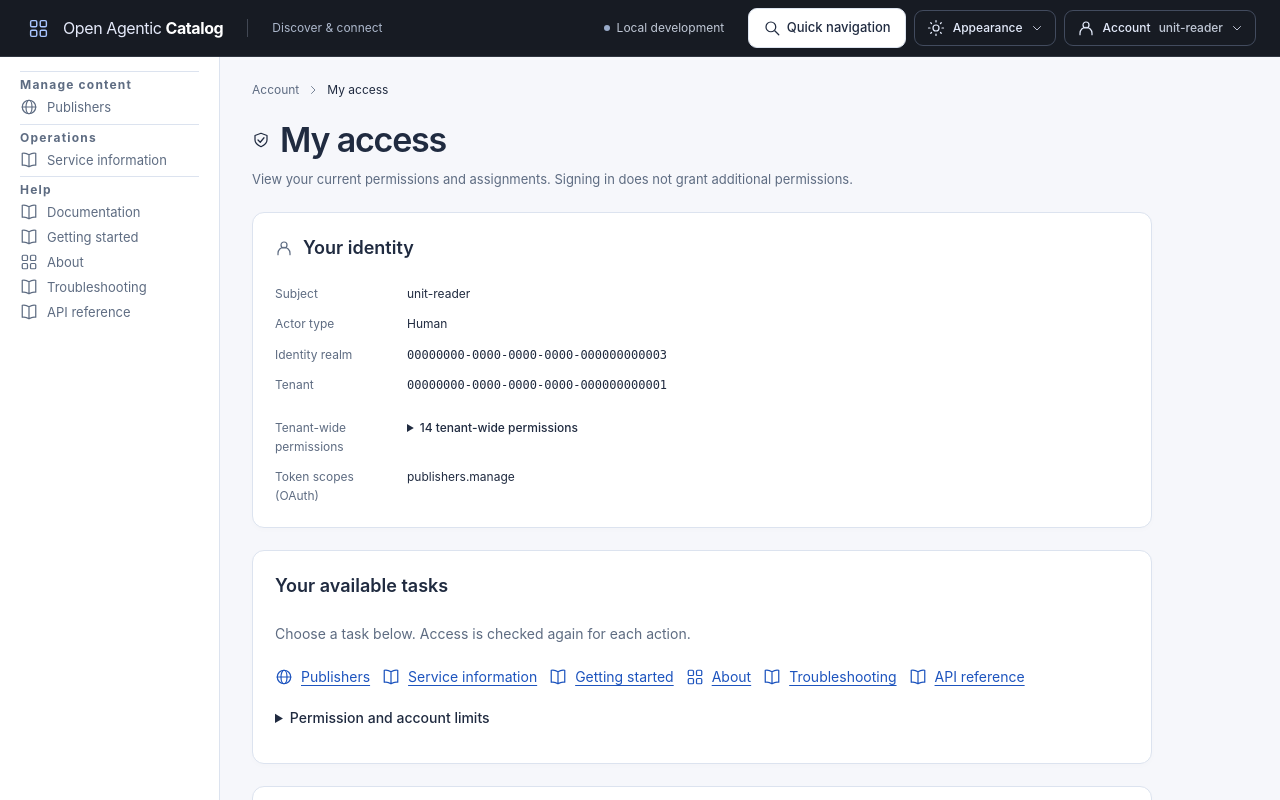
shell controls › keeps Publishers in Manage content without adding authority requirements
Click the heading titled "Account": {"x": 1160, "y": 28} [1064,10,1256,46]
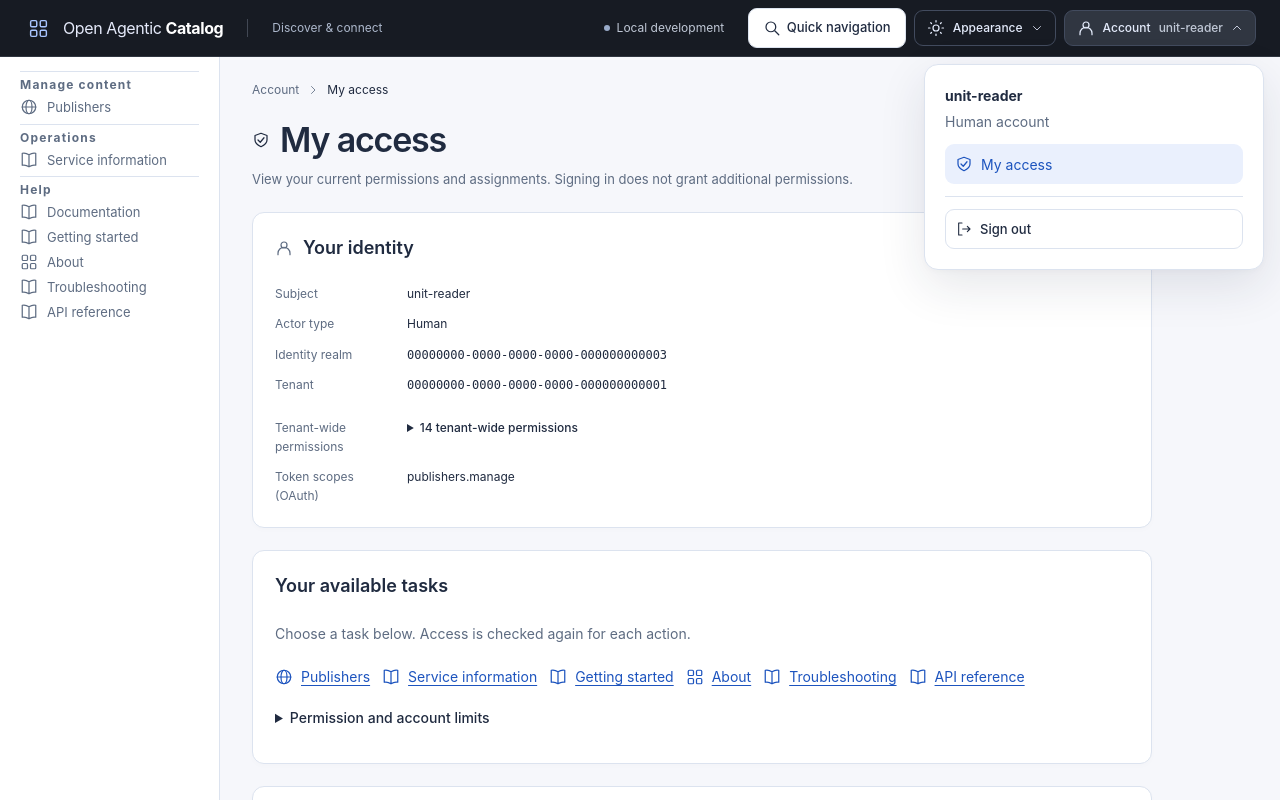
expect the link "Publishers" below "Manage content" is shown: met, box [20,98,111,116]
expect the text "Human account" is shown: met, box [945,113,1049,130]
